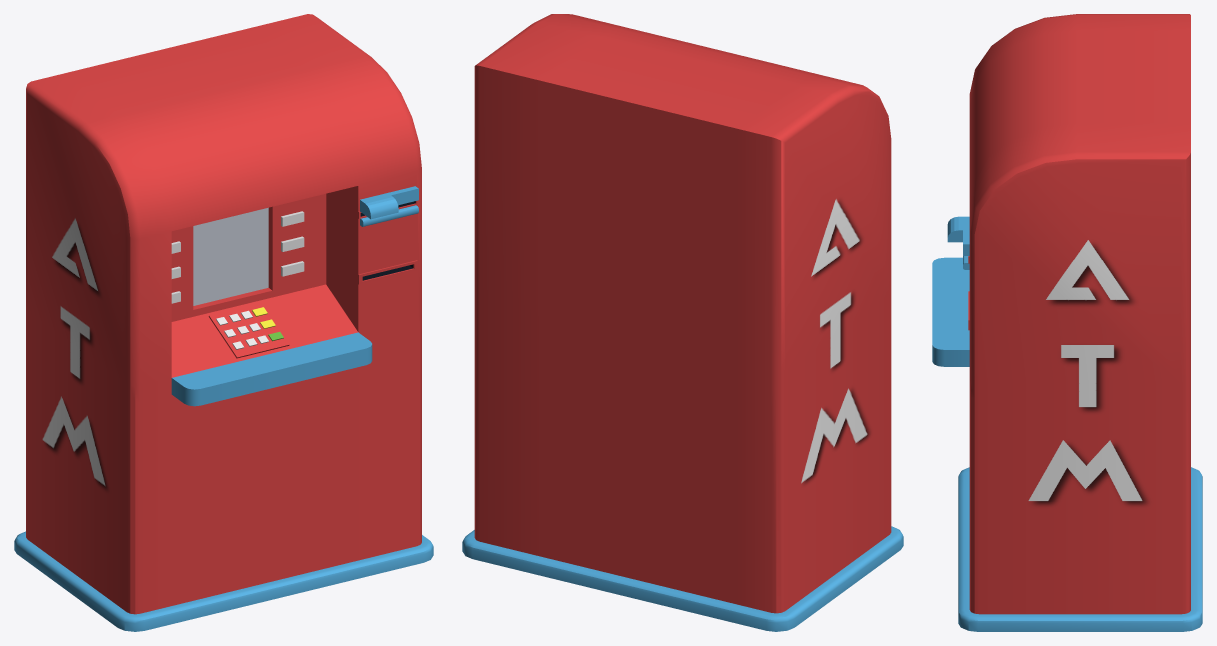
The model's file is atm-B.fbx.
3 views of the same model, side by side, from view 1: azimuth 30°, elevation 25°; view 2: azimuth 150°, elevation 25°; view 3: azimuth 270°, elevation 25° (orthographic). The views are drawn at different scales.
Parts seen in each view (by area): view 1: 2. atm-B; view 2: 2. atm-B; view 3: 2. atm-B.
Boxes of the visible parts, box(x1,y1,x2,y2) form: 2. atm-B: box(14, 14, 433, 631); 2. atm-B: box(462, 14, 903, 631); 2. atm-B: box(932, 14, 1202, 631).
Bounding box in the file's own units: 1.76 × 2.5 × 1.3.
